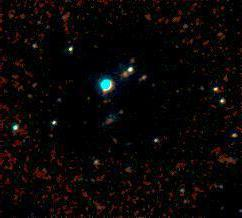star: (2, 113, 32, 143)
